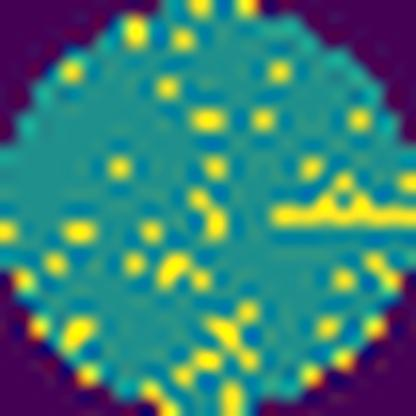Scratch: (269, 185, 416, 233)
